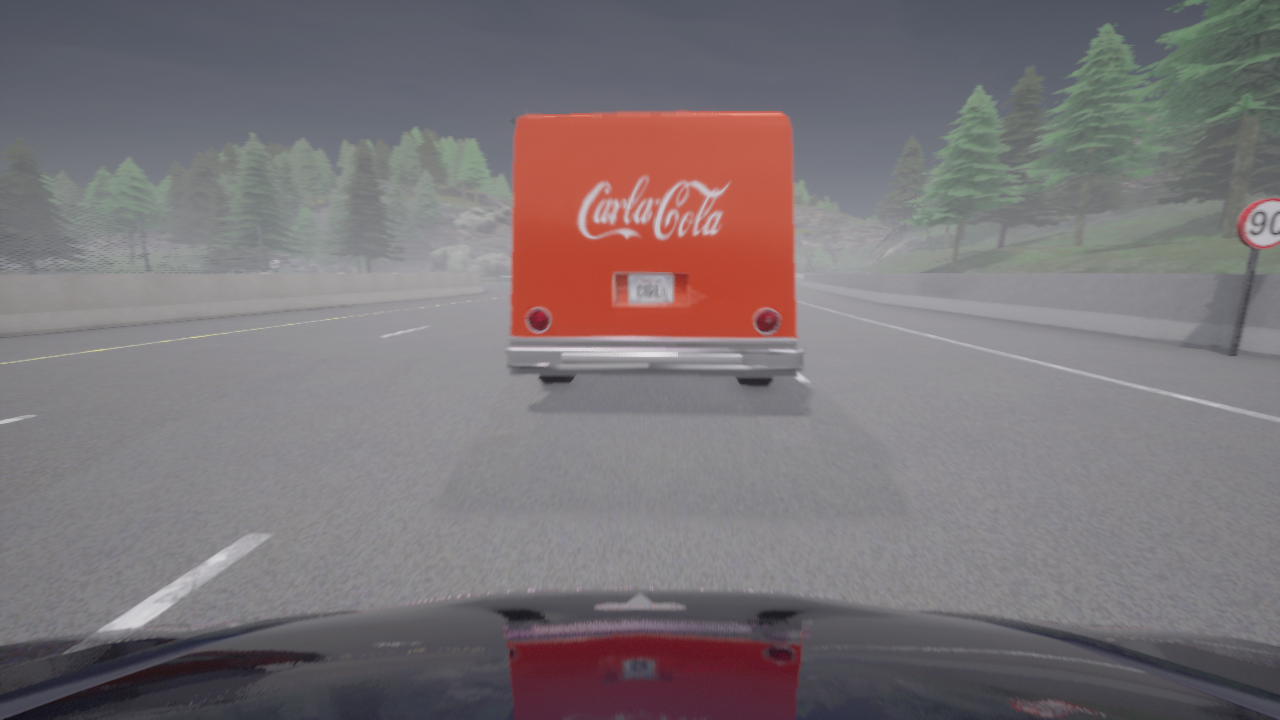cyclist: (0, 588, 1279, 719), (506, 111, 804, 385)
